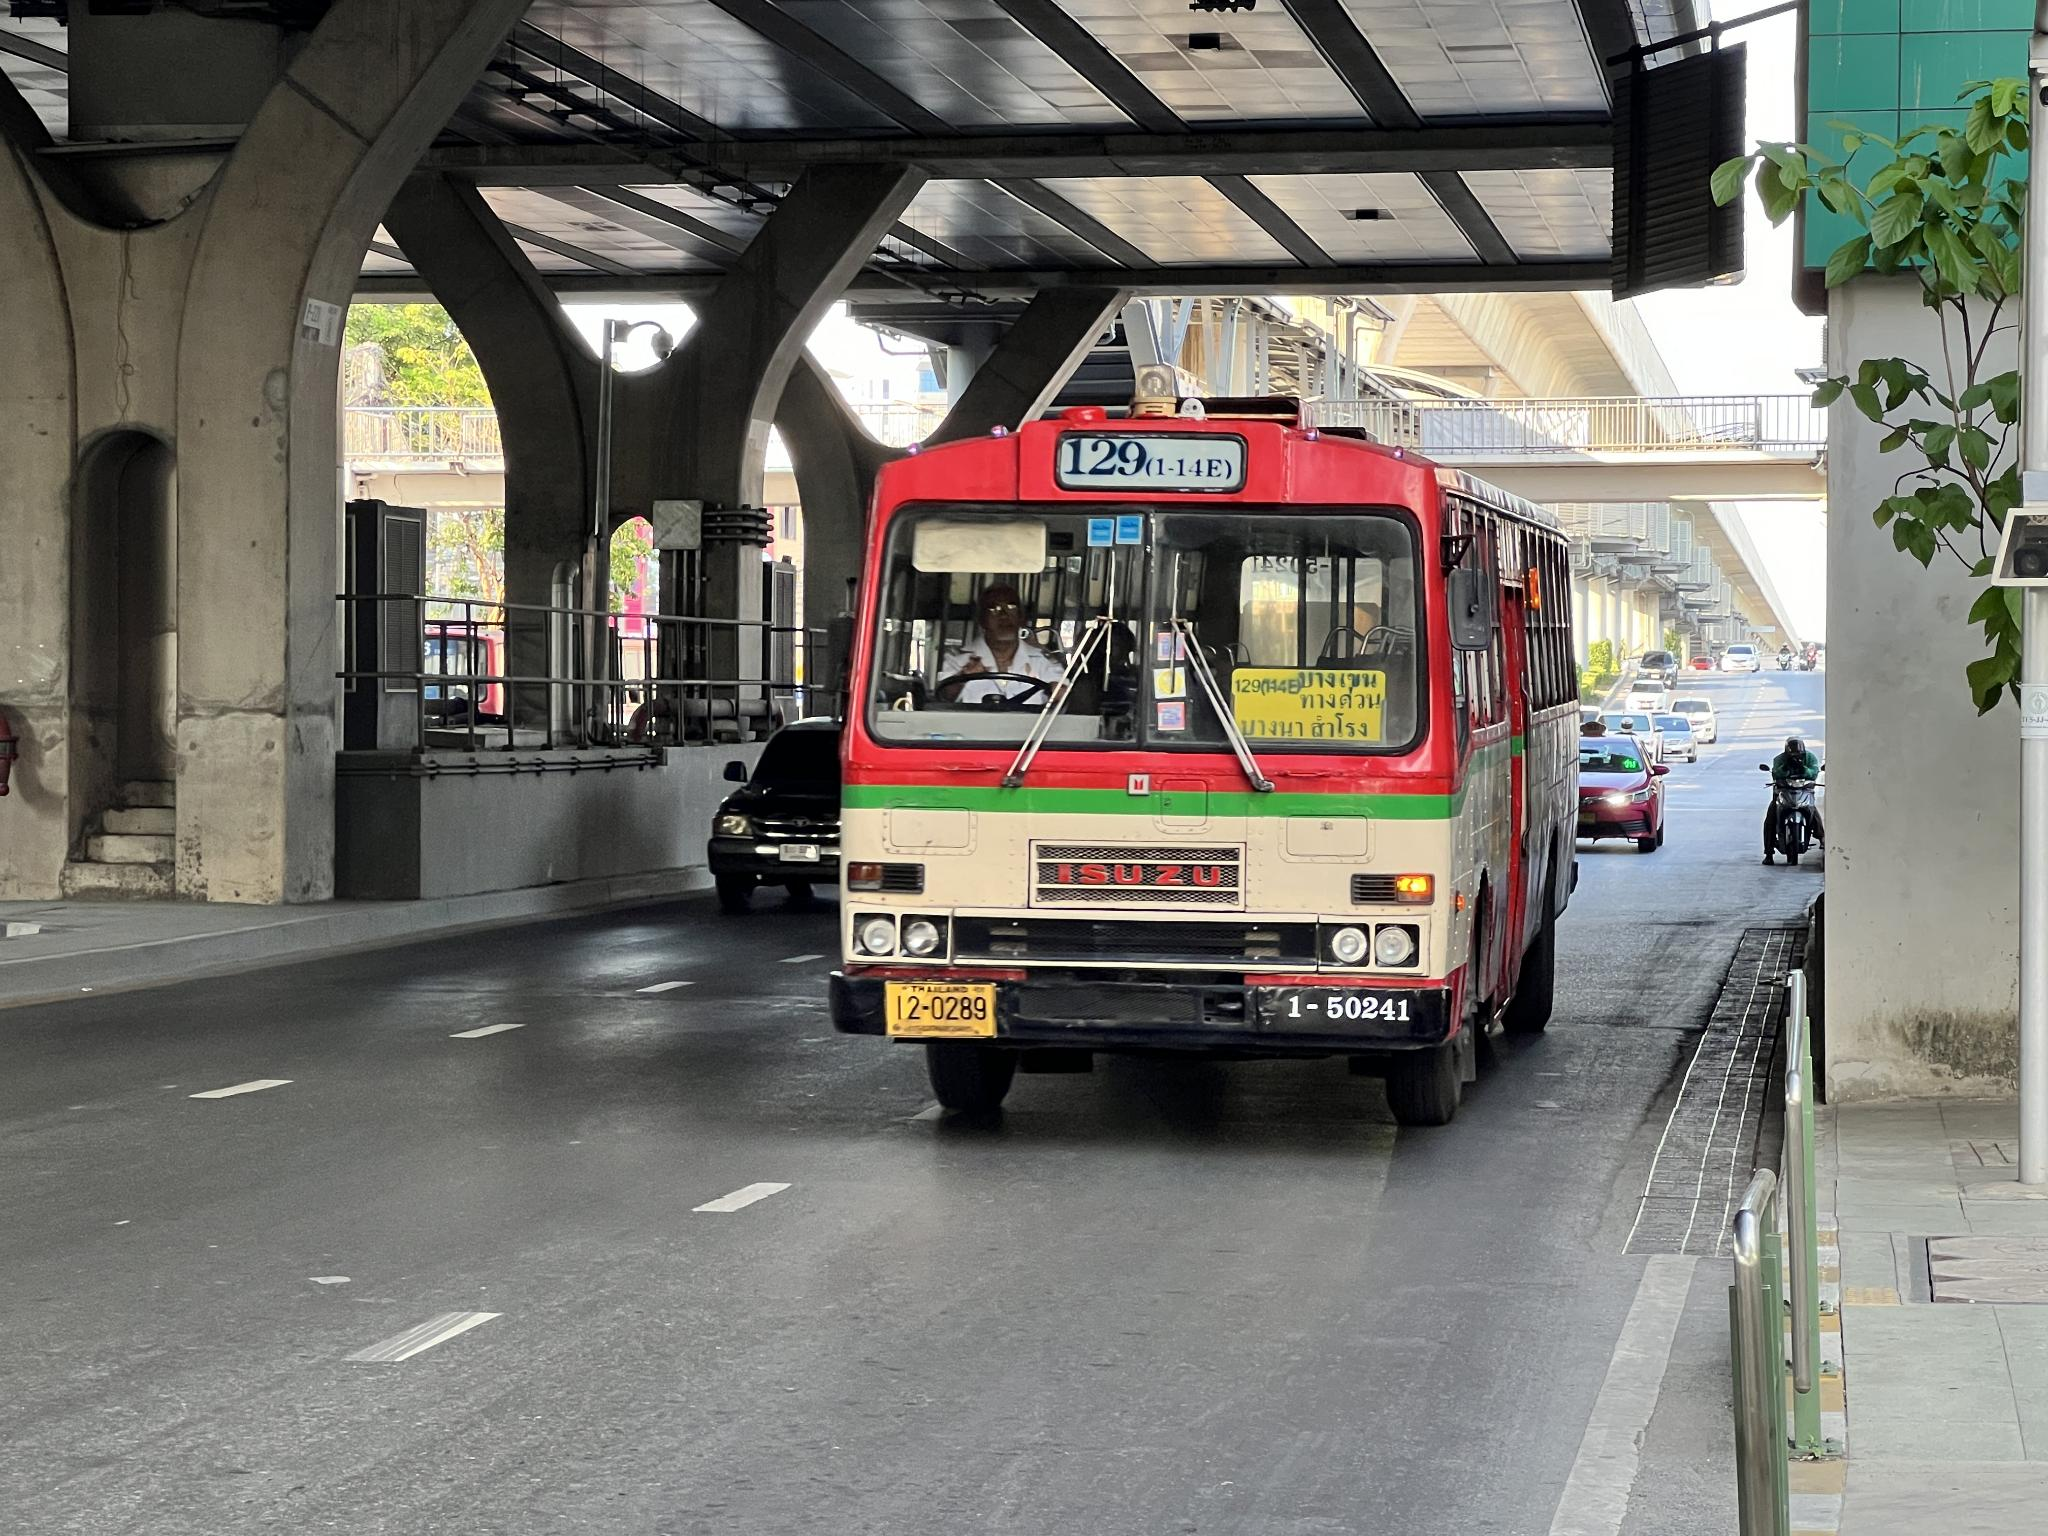BMTA-bus: (829, 410, 1579, 1137)
Bus Line Number: (1051, 418, 1255, 505)
Bus Side Number: (1280, 991, 1421, 1026)
Destination Sign: (1230, 665, 1385, 745)
